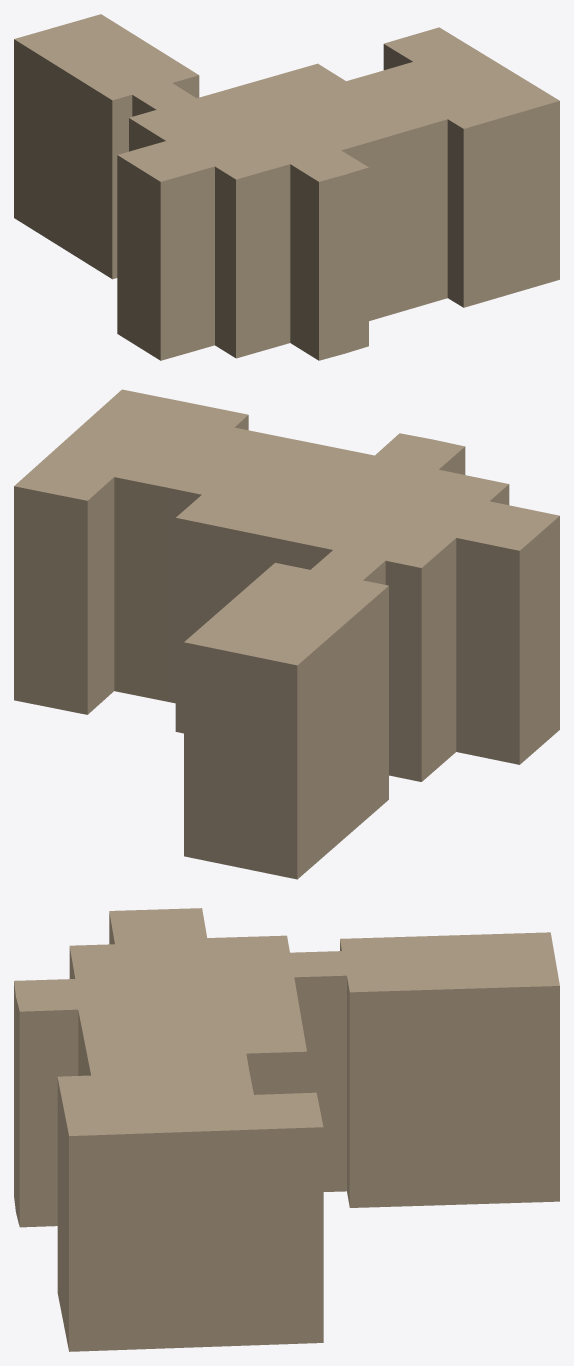
File: bld_144023325.dae
3 renders of one model, top to bottom at view 1: azimuth 30°, elevation 25°; view 2: azimuth 150°, elevation 25°; view 3: azimuth 270°, elevation 25°, orthographic. The views are drawn at different scales.
Visible parts, largest first — view 1: Holy Cross; view 2: Holy Cross; view 3: Holy Cross.
Part boxes in pixels (x1,y1,x2,y2): Holy Cross: [14, 14, 559, 360]; Holy Cross: [14, 389, 559, 879]; Holy Cross: [14, 908, 559, 1351].
Size of the model in its own units: 40.8 by 41.29 by 18.
